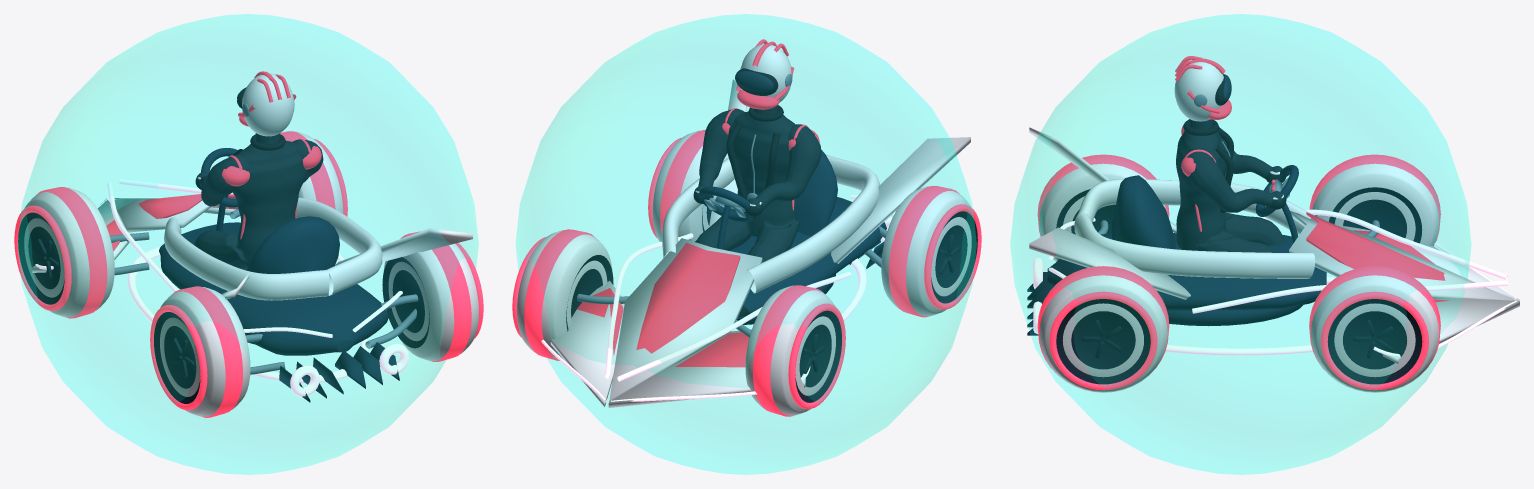
File: signal.glb
The picture shows the model from 3 angles, left to right: view 1: azimuth 30°, elevation 25°; view 2: azimuth 150°, elevation 25°; view 3: azimuth 270°, elevation 25°; orthographic projection.
Visible parts, largest first — view 1: signal:aegis-shield, signal:coachwork-batch, signal:coachwork-batch.001, signal:torso, signal:rounded-wheel-shell.003, signal:rounded-wheel-shell.002, signal:rounded-wheel-shell, signal:translucent-tire-band.002, signal:translucent-tire-band, signal:helmet-shell, signal:recessed-colored-hub.002, signal:translucent-tire-band.003 (+16 smaller); view 2: signal:aegis-shield, signal:coachwork-batch.001, signal:torso, signal:arrow-bonnet-inlay, signal:coachwork-batch, signal:rounded-wheel-shell.002, signal:rounded-wheel-shell, signal:rounded-wheel-shell.001, signal:translucent-tire-band, signal:translucent-tire-band.002, signal:translucent-tire-band.001, signal:arm-l-mesh (+22 smaller); view 3: signal:aegis-shield, signal:coachwork-batch.001, signal:coachwork-batch, signal:torso, signal:rounded-wheel-shell.003, signal:rounded-wheel-shell.001, signal:rounded-wheel-shell, signal:recessed-colored-hub.003, signal:recessed-colored-hub.001, signal:arrow-bonnet-inlay, signal:rounded-wheel-shell.002, signal:arm-r-mesh (+14 smaller).
Boxes of the visible parts, x1,y1,x2,y2 form: signal:aegis-shield: [18, 14, 478, 474]; signal:coachwork-batch: [159, 195, 399, 402]; signal:coachwork-batch.001: [32, 197, 472, 300]; signal:torso: [194, 133, 307, 268]; signal:rounded-wheel-shell.003: [383, 235, 478, 360]; signal:rounded-wheel-shell.002: [160, 287, 250, 416]; signal:rounded-wheel-shell: [24, 187, 114, 317]; signal:translucent-tire-band.002: [173, 286, 242, 417]; signal:translucent-tire-band: [36, 187, 107, 318]; signal:helmet-shell: [242, 73, 294, 136]; signal:recessed-colored-hub.002: [154, 312, 200, 403]; signal:translucent-tire-band.003: [400, 231, 471, 361]; signal:aegis-shield: [516, 14, 976, 474]; signal:coachwork-batch.001: [550, 79, 970, 407]; signal:torso: [696, 104, 799, 262]; signal:arrow-bonnet-inlay: [636, 242, 740, 353]; signal:coachwork-batch: [695, 149, 886, 324]; signal:rounded-wheel-shell.002: [881, 186, 971, 316]; signal:rounded-wheel-shell: [745, 285, 835, 415]; signal:rounded-wheel-shell.001: [517, 230, 612, 359]; signal:translucent-tire-band: [753, 285, 823, 416]; signal:translucent-tire-band.002: [888, 186, 959, 317]; signal:translucent-tire-band.001: [524, 229, 595, 360]; signal:arm-l-mesh: [748, 124, 821, 208]; signal:aegis-shield: [1010, 14, 1471, 474]; signal:coachwork-batch.001: [1029, 127, 1519, 363]; signal:coachwork-batch: [1027, 175, 1326, 335]; signal:torso: [1176, 119, 1285, 252]; signal:rounded-wheel-shell.003: [1039, 275, 1167, 392]; signal:rounded-wheel-shell.001: [1310, 275, 1439, 392]; signal:rounded-wheel-shell: [1312, 163, 1439, 245]; signal:recessed-colored-hub.003: [1056, 299, 1150, 384]; signal:recessed-colored-hub.001: [1327, 299, 1422, 384]; signal:arrow-bonnet-inlay: [1306, 212, 1445, 280]; signal:rounded-wheel-shell.002: [1039, 163, 1166, 261]; signal:arm-r-mesh: [1185, 147, 1282, 212].
Size of the model in its own units: 4.3 by 4.3 by 4.75.
